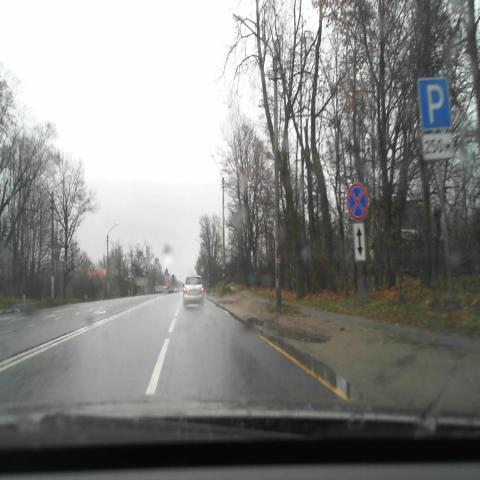3_27: (347, 183, 369, 222)
6_4: (418, 78, 451, 131)
8_1_1: (422, 133, 454, 160)
8_2_4: (354, 224, 366, 261)
